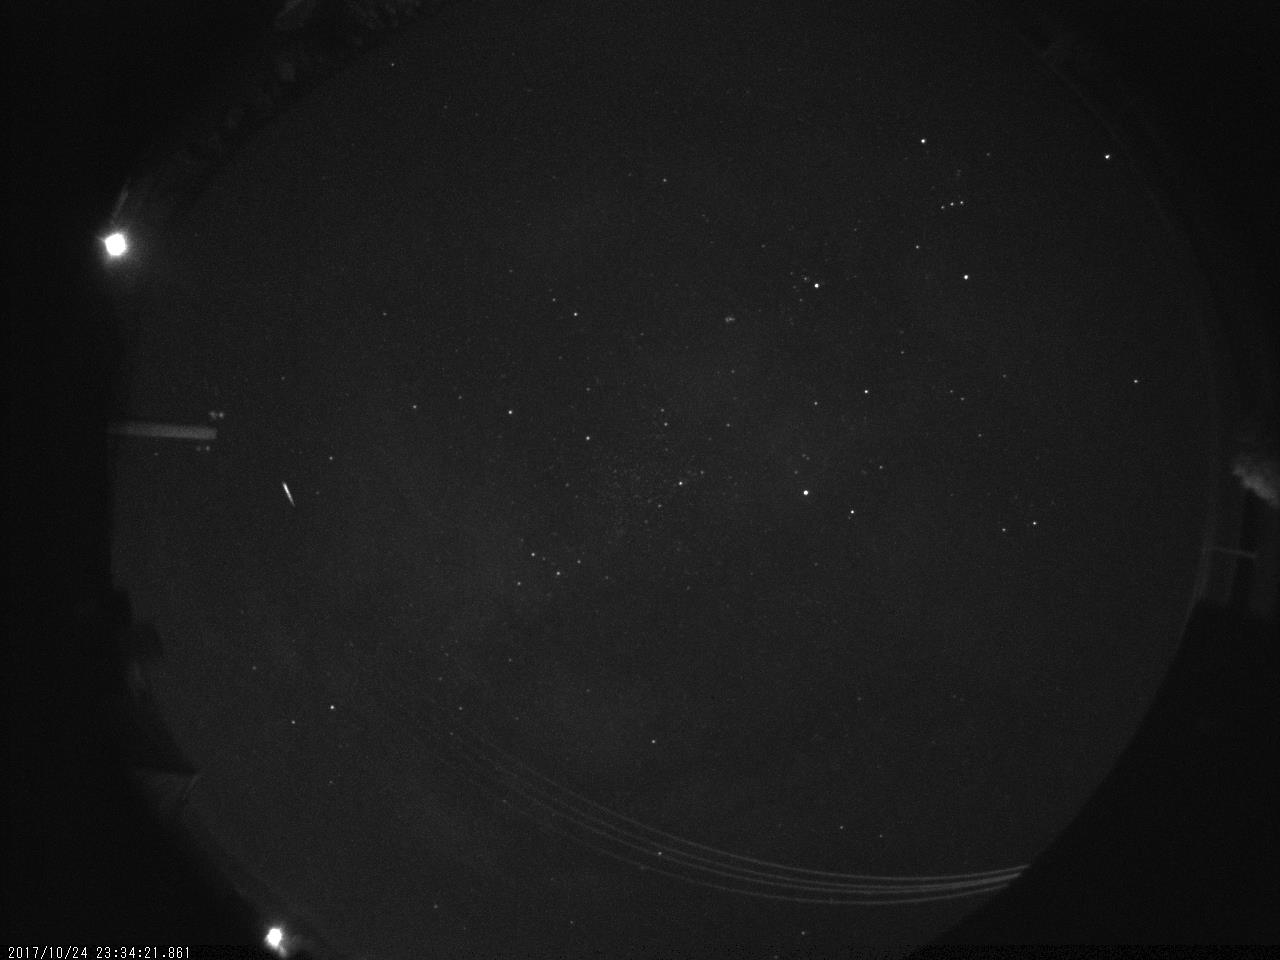meteor: (267, 471, 313, 514)
